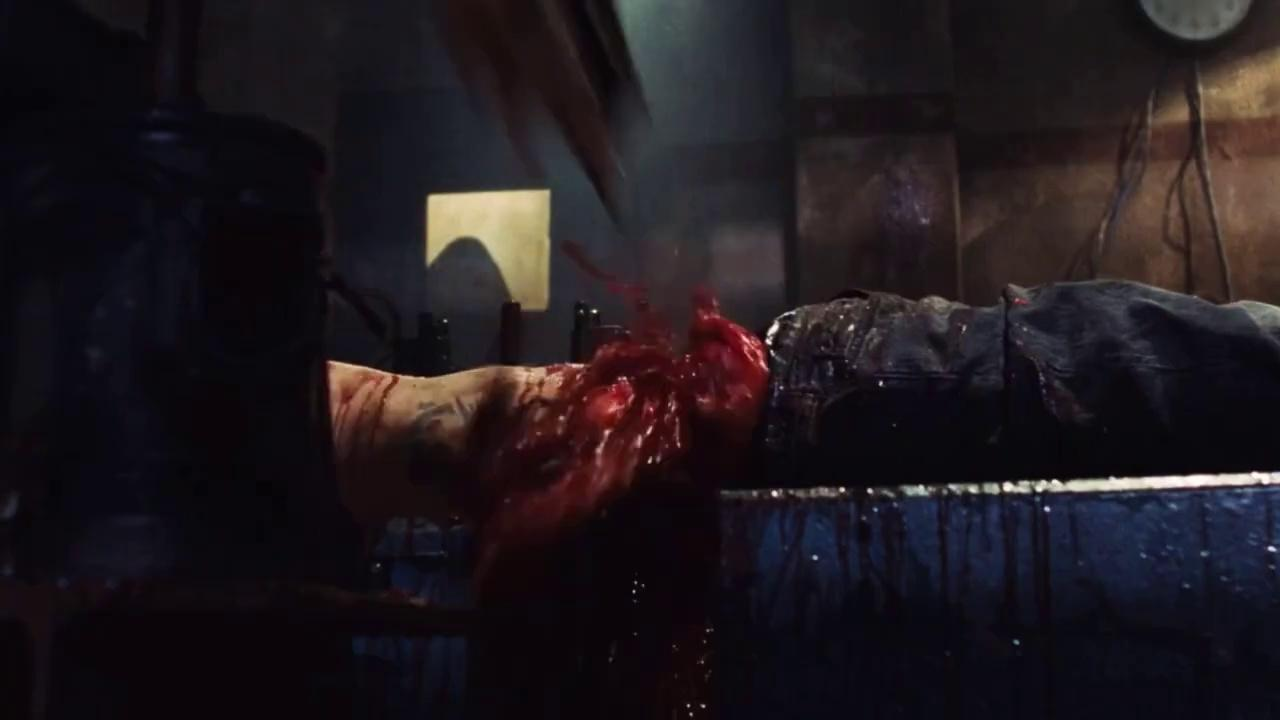Fire: (327, 283, 771, 718)
